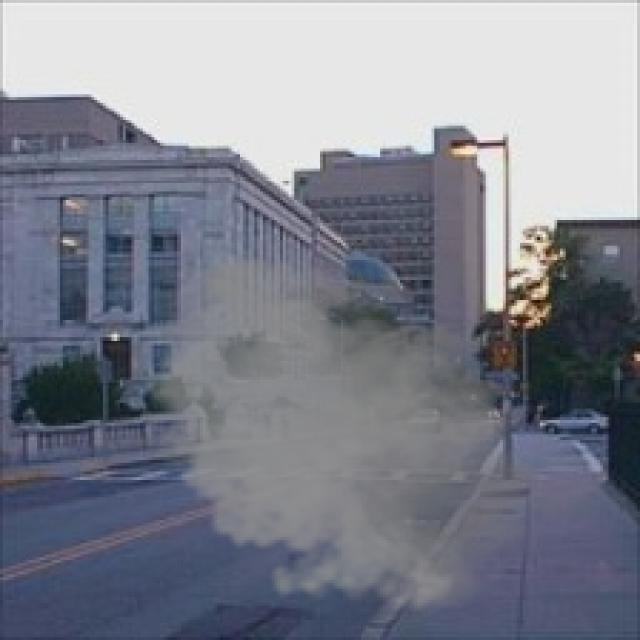Smoke: (132, 248, 557, 623)
